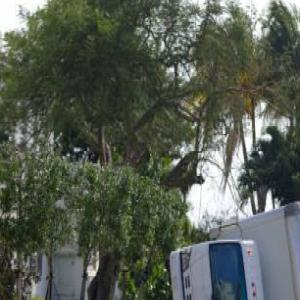fatal: (162, 192, 300, 300)
